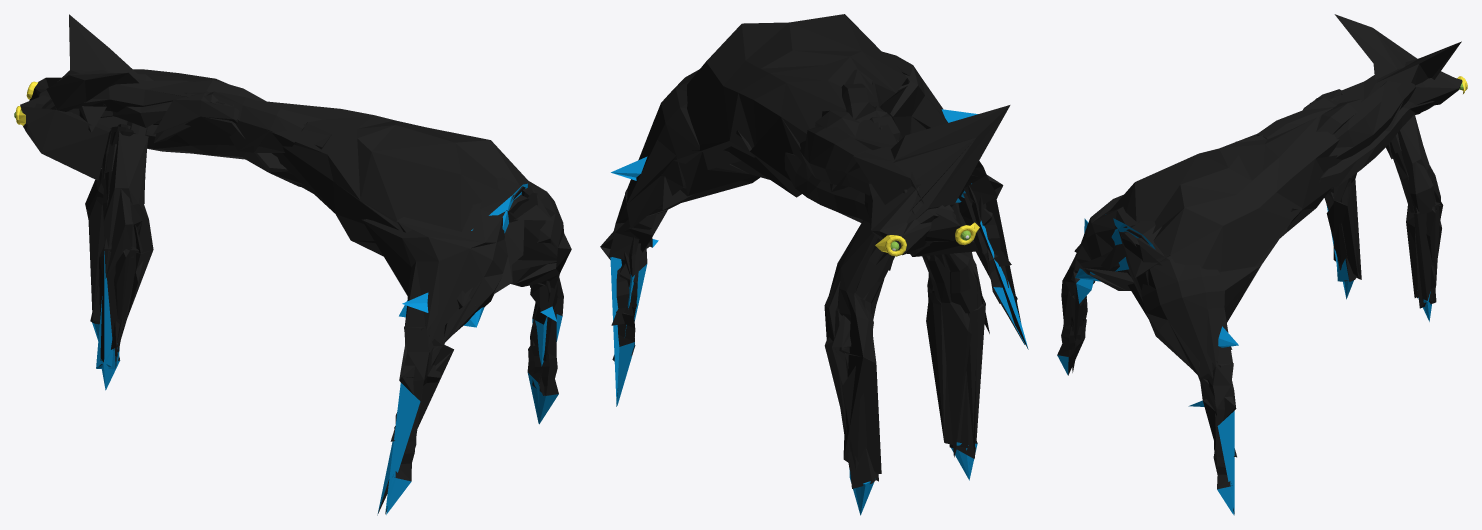
The model's file is CritterDisected.fbx.
3 views of the same model, side by side, from view 1: azimuth 30°, elevation 25°; view 2: azimuth 150°, elevation 25°; view 3: azimuth 270°, elevation 25° (orthographic). The views are drawn at different scales.
Visible parts, largest first — view 1: group_488368523; view 2: group_488368523; view 3: group_488368523.
Boxes of the visible parts, x1=… form: group_488368523: x1=14, y1=14, x2=571, y2=515; group_488368523: x1=600, y1=14, x2=1028, y2=515; group_488368523: x1=1057, y1=14, x2=1467, y2=515.
Size of the model in its own units: 6.09 by 5.4 by 5.94.
